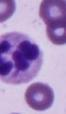N: (0, 31, 45, 84)
